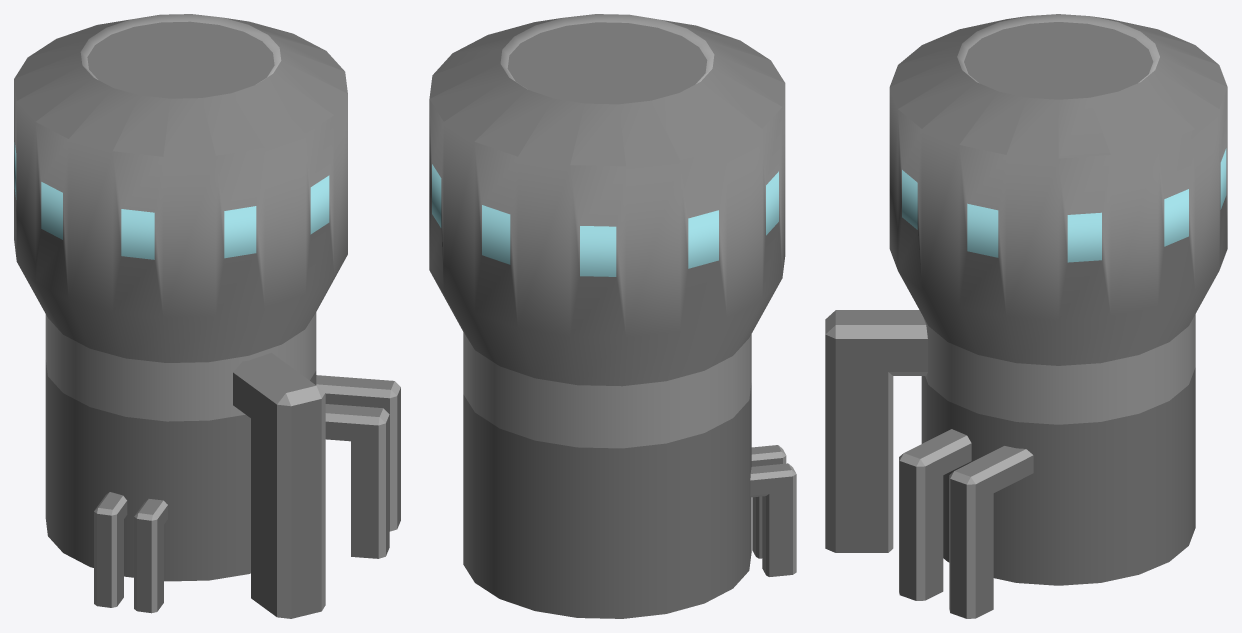
File: FuelTank2.fbx
3 renders of one model, left to right at view 1: azimuth 30°, elevation 25°; view 2: azimuth 150°, elevation 25°; view 3: azimuth 270°, elevation 25°, orthographic. The views are drawn at different scales.
Parts seen in each view (by area): view 1: Fuel_Tank_2; view 2: Fuel_Tank_2; view 3: Fuel_Tank_2.
Boxes of the visible parts, x1=… form: Fuel_Tank_2: x1=14, y1=14, x2=400, y2=618; Fuel_Tank_2: x1=429, y1=14, x2=796, y2=618; Fuel_Tank_2: x1=825, y1=14, x2=1227, y2=618.
Size of the model in its own units: 56.44 by 81.6 by 61.1.
